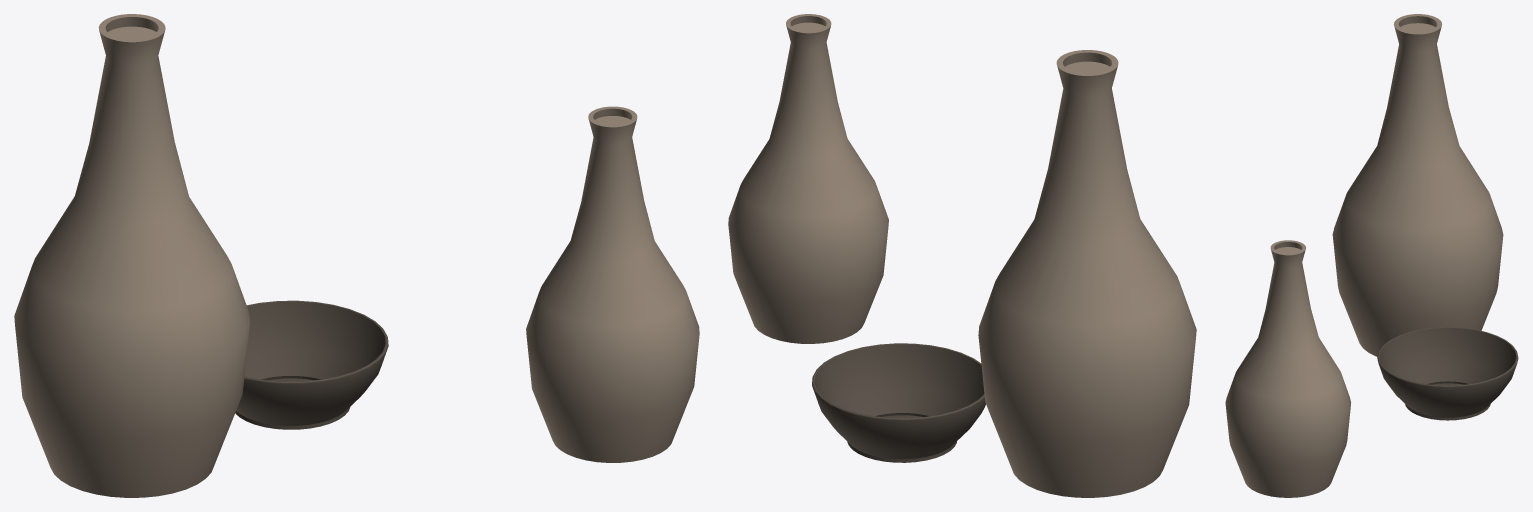
File: vasija_001.fbx
3 views of the same model, side by side, from view 1: azimuth 30°, elevation 25°; view 2: azimuth 150°, elevation 25°; view 3: azimuth 270°, elevation 25° (orthographic). The views are drawn at different scales.
Visible parts, largest first — view 1: vasija_001; view 2: vasija_001; view 3: vasija_001.
Boxes of the visible parts, x1,y1,x2,y2 form: vasija_001: (14, 14, 699, 497); vasija_001: (728, 14, 1196, 497); vasija_001: (1225, 14, 1518, 497).
Size of the model in its own units: 136 by 100 by 83.7.
